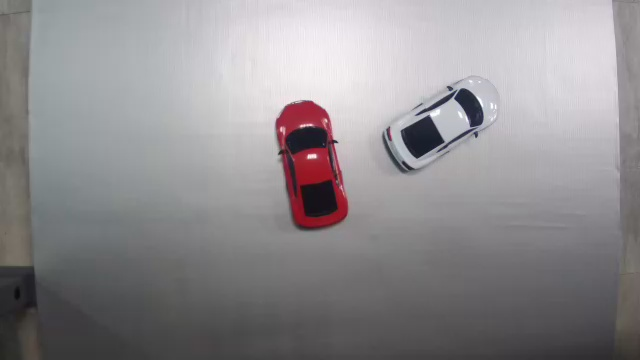car: (382, 75, 500, 172), (276, 99, 350, 229)
